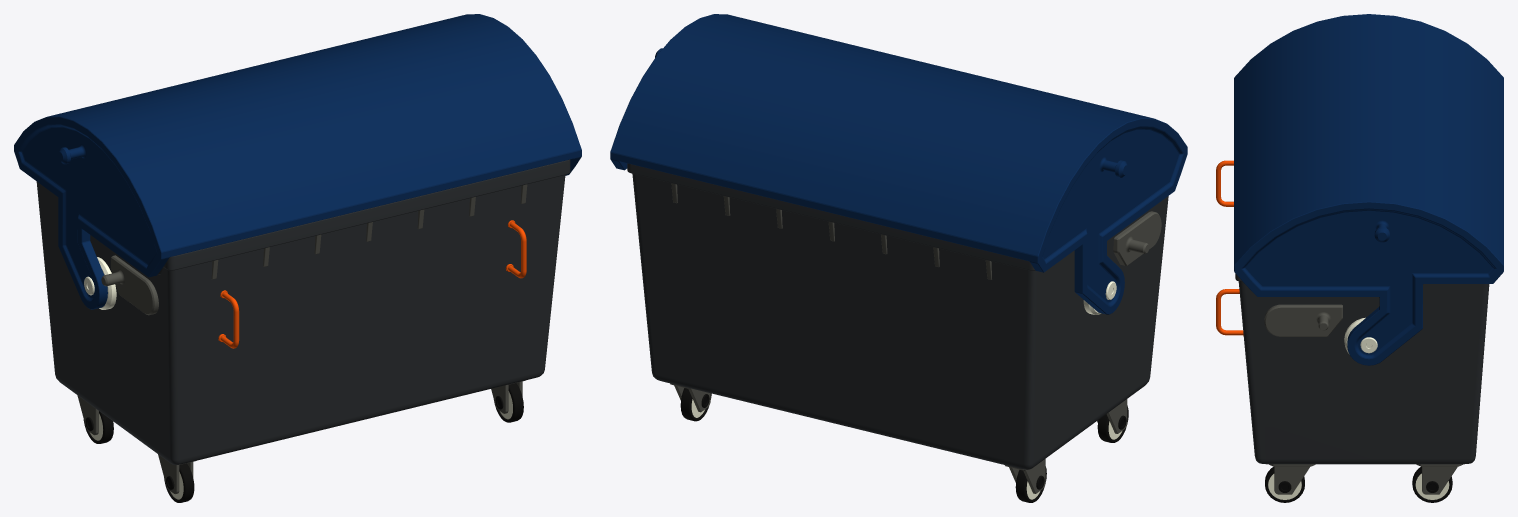
File: bin_blue.fbx
The picture shows the model from 3 angles, left to right: view 1: azimuth 30°, elevation 25°; view 2: azimuth 150°, elevation 25°; view 3: azimuth 270°, elevation 25°; orthographic projection. The views are drawn at different scales.
Parts seen in each view (by area): view 1: bin_2; view 2: bin_2; view 3: bin_2.
Part boxes in pixels (x1,y1,x2,y2): bin_2: [14, 14, 581, 502]; bin_2: [610, 14, 1187, 502]; bin_2: [1216, 14, 1503, 502].
Bounding box in the file's own units: 188 × 136 × 111.
